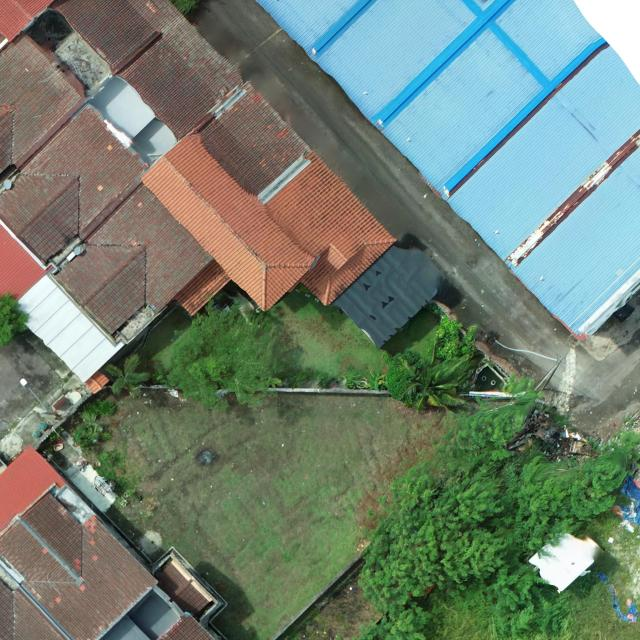Tree: (354, 462, 514, 613), (500, 429, 640, 552), (165, 296, 284, 410), (434, 394, 540, 479), (481, 559, 572, 638), (400, 339, 479, 412), (382, 349, 423, 406), (104, 353, 152, 396), (432, 318, 478, 360), (0, 292, 31, 349)
